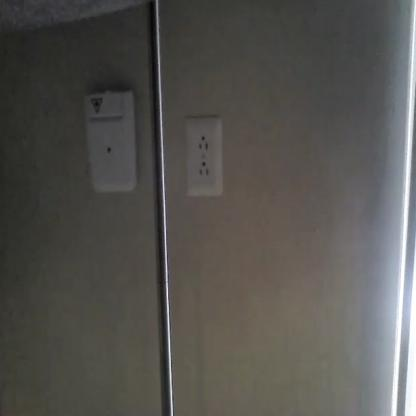OUTLET: (185, 116, 223, 198)
